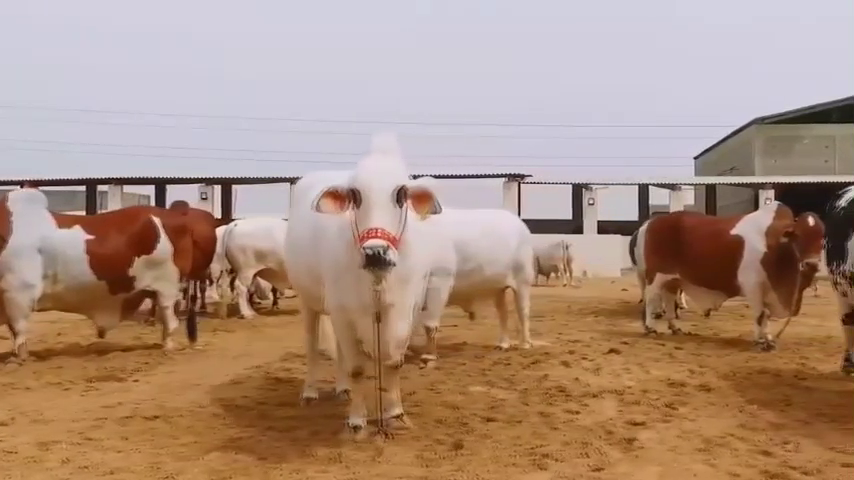bo: (285, 132, 424, 442), (617, 174, 824, 353), (3, 182, 202, 364), (426, 189, 539, 358), (217, 205, 291, 327), (178, 203, 225, 304), (532, 228, 580, 299)
